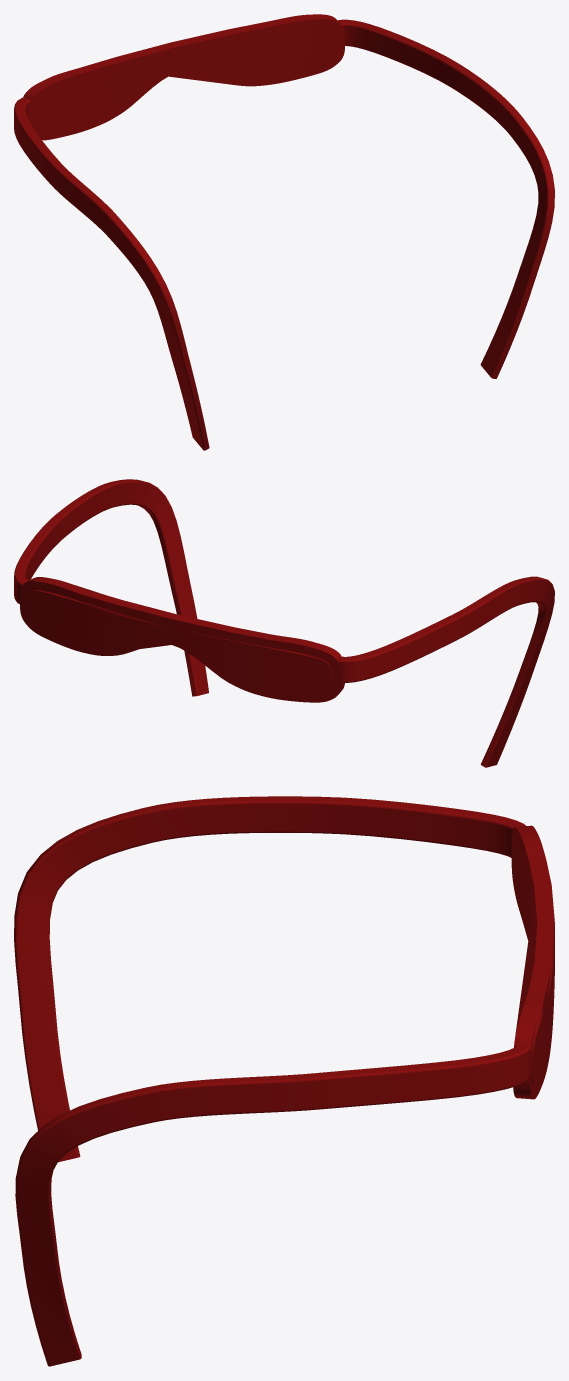
Rendered from glass_print.obj.
3 views of the same model, one above another, from view 1: azimuth 30°, elevation 25°; view 2: azimuth 150°, elevation 25°; view 3: azimuth 270°, elevation 25° (orthographic). The views are drawn at different scales.
Parts seen in each view (by area): view 1: Line023; view 2: Line023; view 3: Line023.
Part boxes in pixels (x1,y1,x2,y2): Line023: (14,14,554,450); Line023: (14,479,554,767); Line023: (14,796,554,1366).
Size of the model in its own units: 135 by 75.06 by 107.
